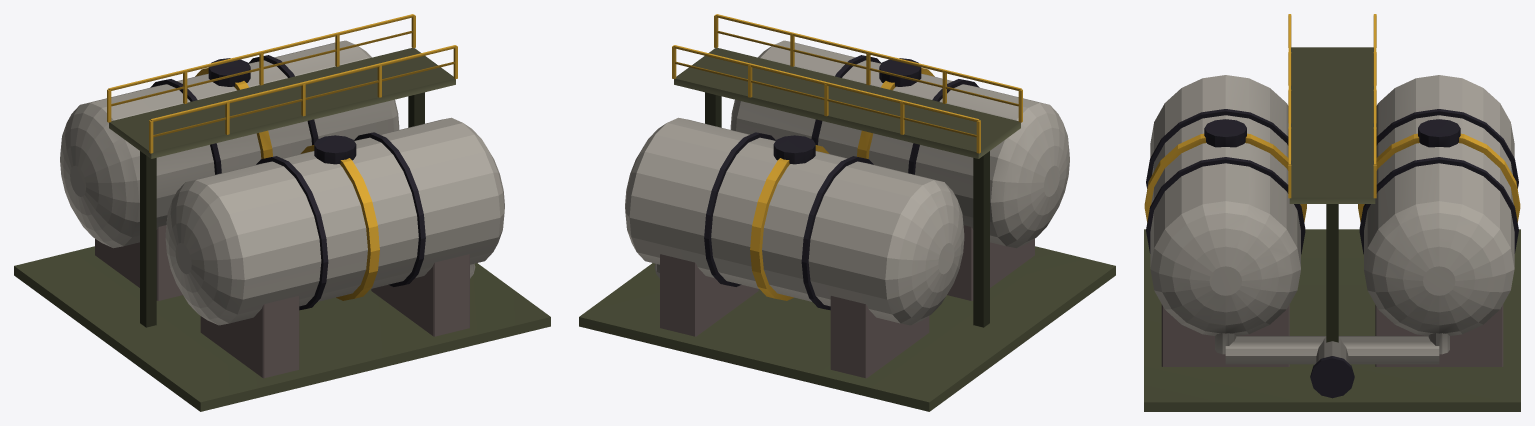
3 renders of one model, left to right at view 1: azimuth 30°, elevation 25°; view 2: azimuth 150°, elevation 25°; view 3: azimuth 270°, elevation 25°, orthographic.
Visible parts, largest first — view 1: body_pal_picketWhite; view 2: body_pal_picketWhite; view 3: body_pal_picketWhite.
Part boxes in pixels (left/top/right/bottom): body_pal_picketWhite: left=14, top=14, right=550, bottom=411; body_pal_picketWhite: left=579, top=14, right=1115, bottom=411; body_pal_picketWhite: left=1144, top=14, right=1520, bottom=411.
Size of the model in its own units: 11.83 by 7.34 by 10.6.
